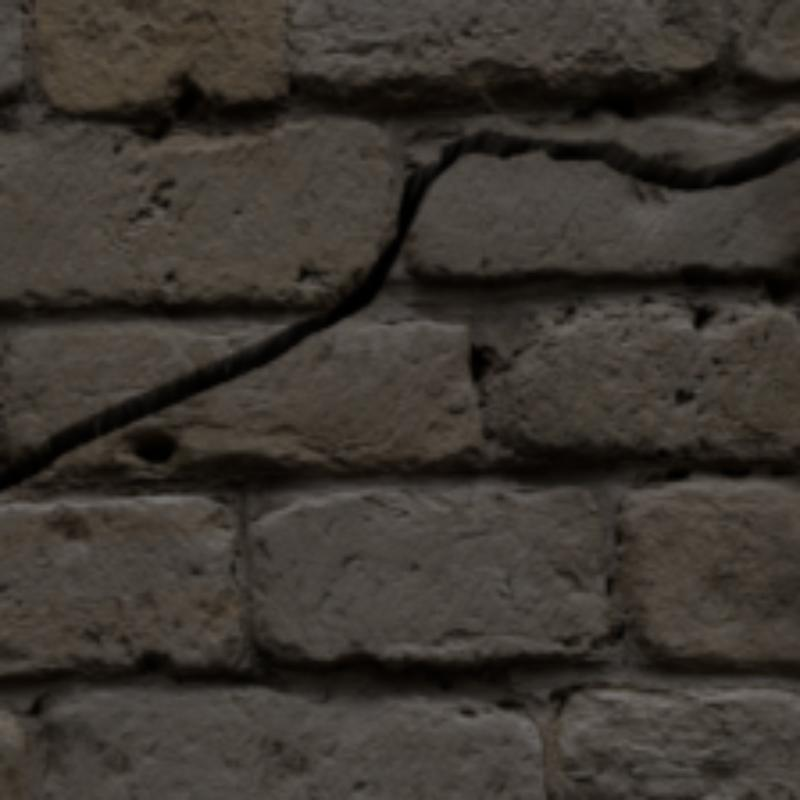pothole: (0, 129, 796, 489)
